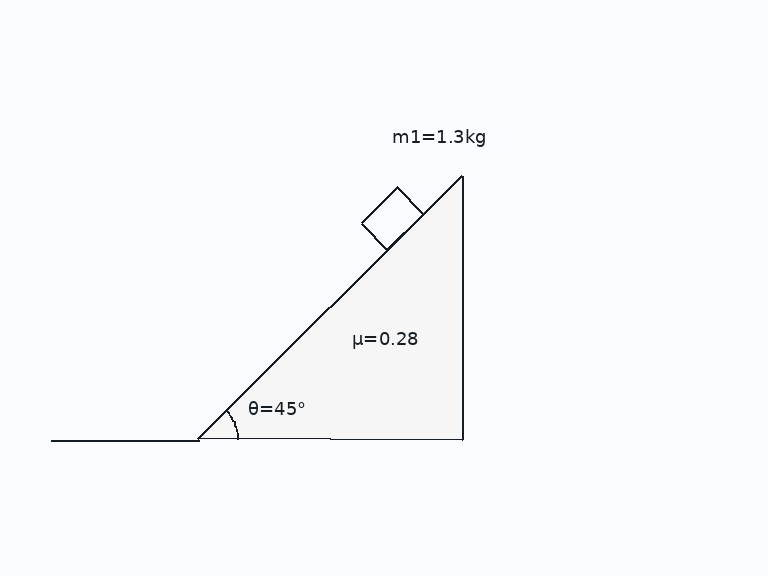block: (359, 185, 425, 252)
ramp: (196, 173, 464, 441)
